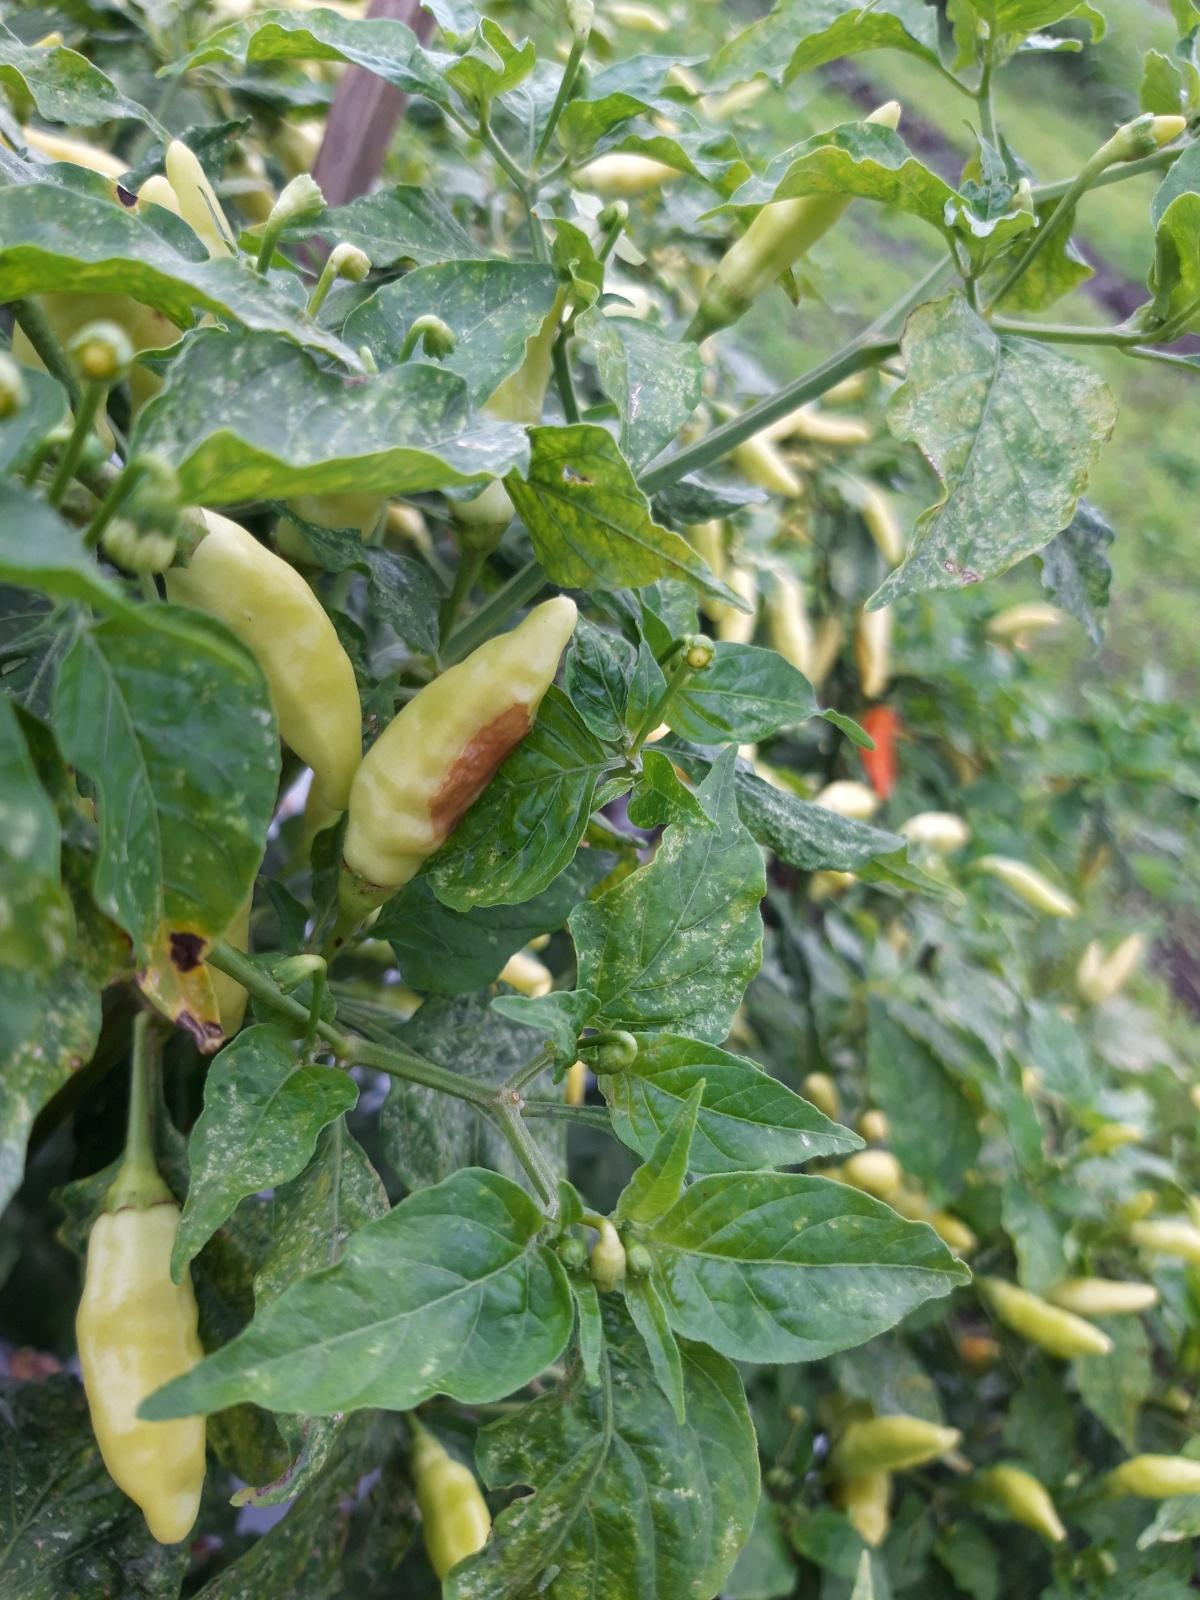cabai_normal: (160, 505, 362, 826), (73, 1175, 207, 1545), (708, 100, 904, 323), (987, 1275, 1117, 1362), (828, 1415, 966, 1469), (986, 1461, 1069, 1543), (969, 857, 1076, 918), (1046, 1277, 1158, 1313), (1117, 1454, 1200, 1498)
lalat_buah: (333, 593, 581, 922)
